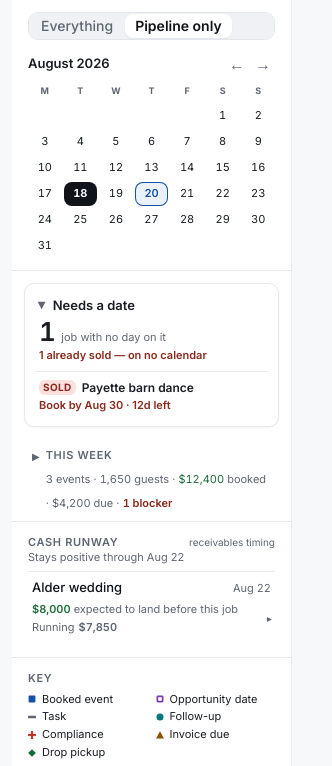
Test: CalendarLeftRail › composition › puts the five tiles one tap away, with their data intact
The width and height of the screenshot is (332, 766).
Click the button "This week" at (152, 480), box top-left (12, 439), bottom-right (291, 521)
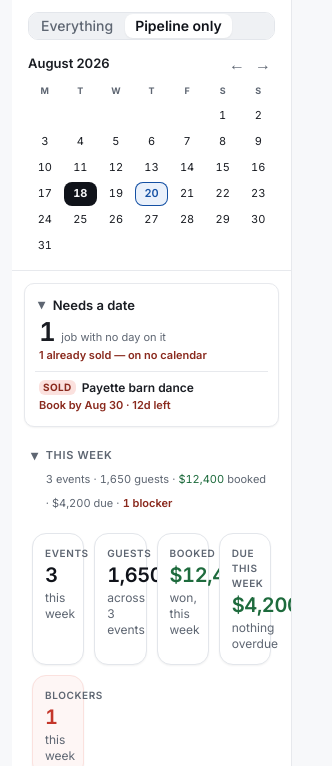
Expected: the button "This week" is expanded, top-left (12, 439), bottom-right (291, 521)
Expected: the text "Events" is shown, top-left (45, 546), bottom-right (71, 561)
Expected: the text "Guests" is shown, top-left (107, 546), bottom-right (134, 561)
